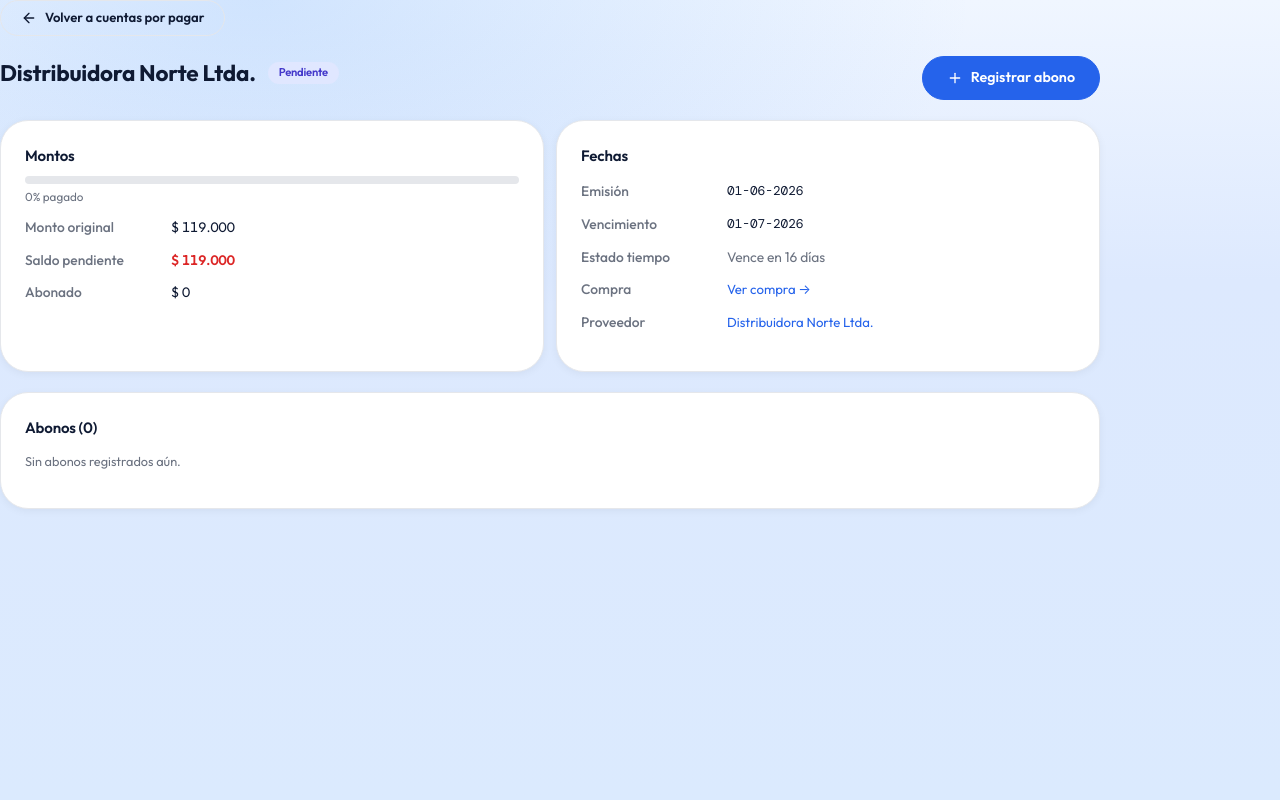
Scenario: CxPDetallePage › abono con monto > saldo muestra mensaje de error ERR_ABONO_INVALIDO
Click the button "Registrar abono": x=1011, y=78 left=922, top=56, right=1100, bottom=100
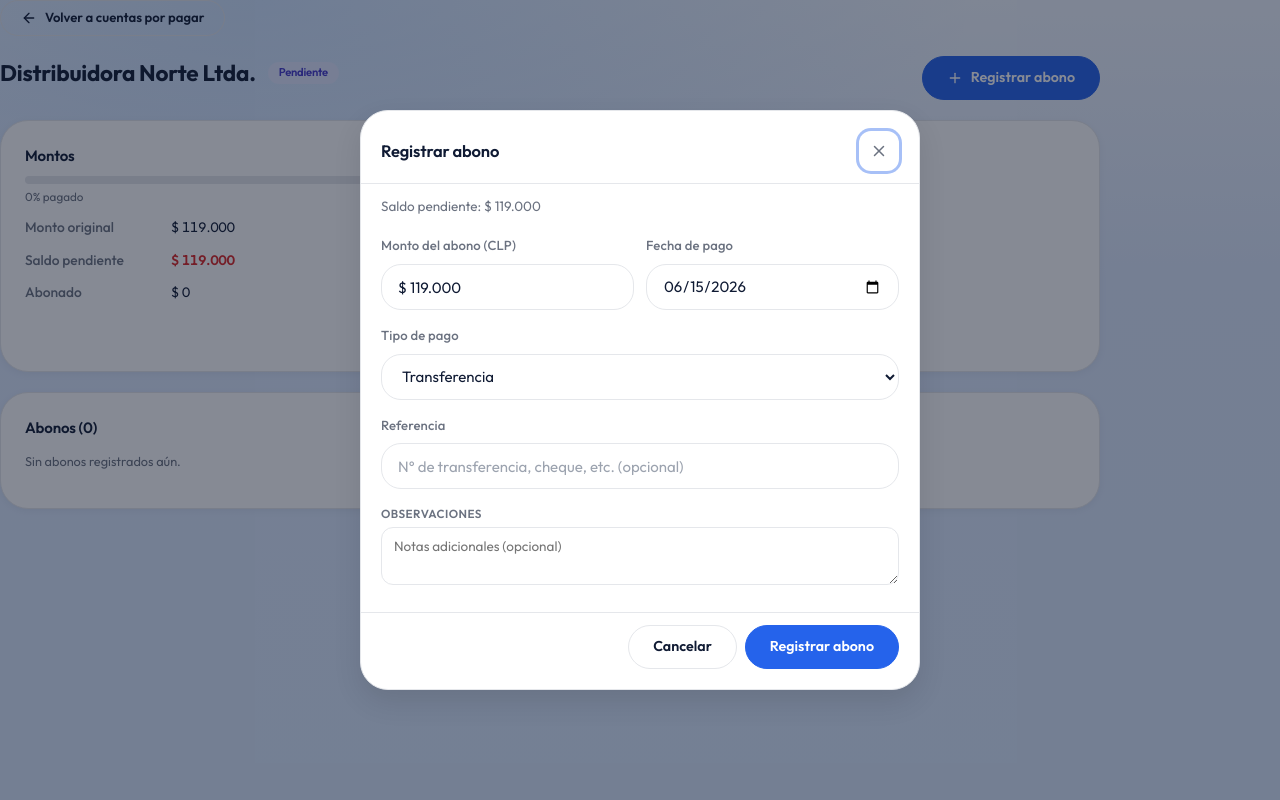
# El último es el submit del modal
Click the button "Registrar abono": x=822, y=647 left=745, top=625, right=899, bottom=669
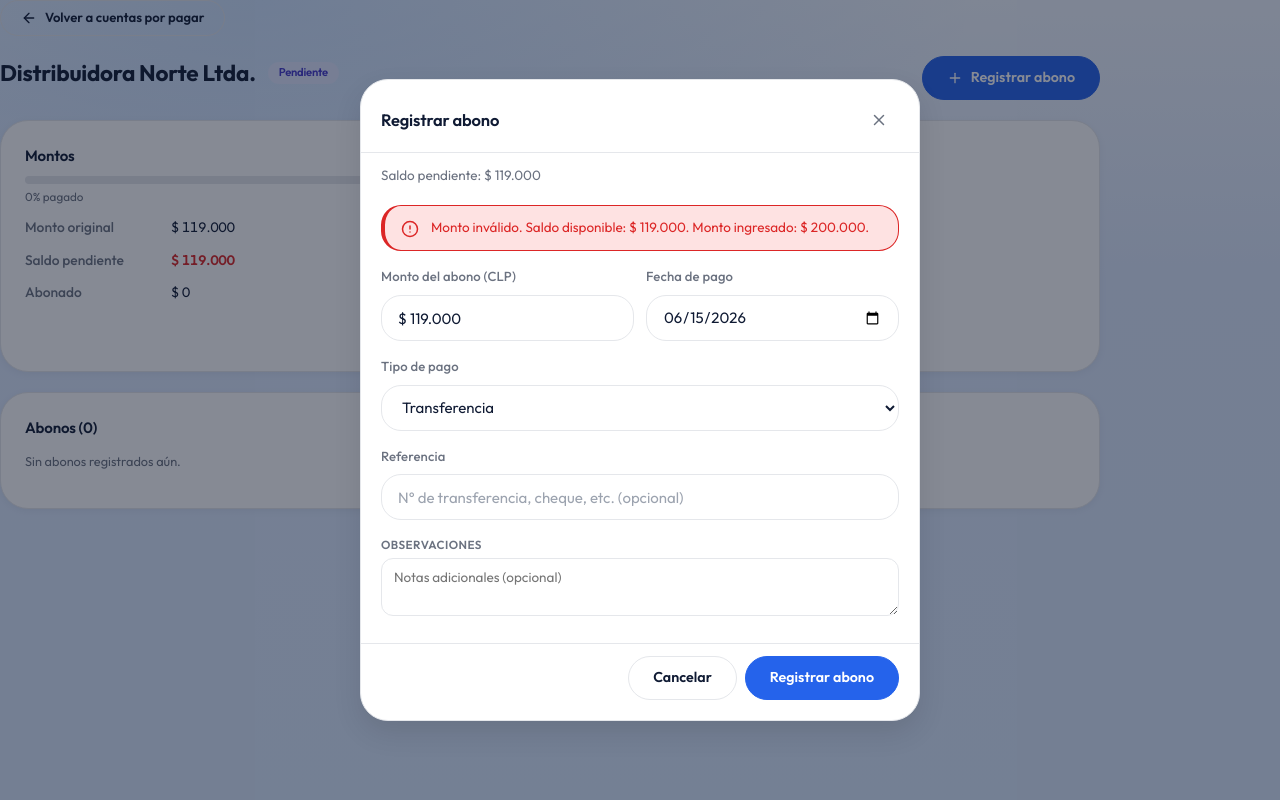
expect the text "Saldo disponible" is shown: met, box left=431, top=218, right=869, bottom=236
